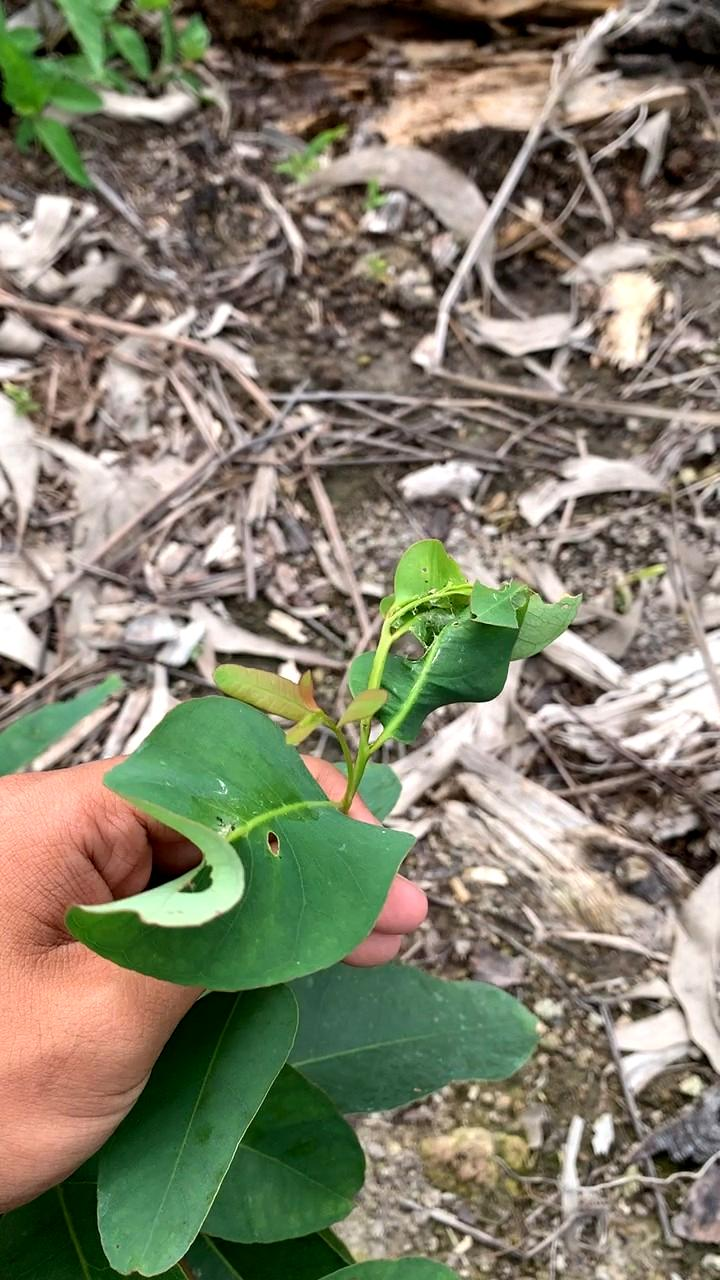Leaf Roller - Leaf: (346, 513, 579, 760)
